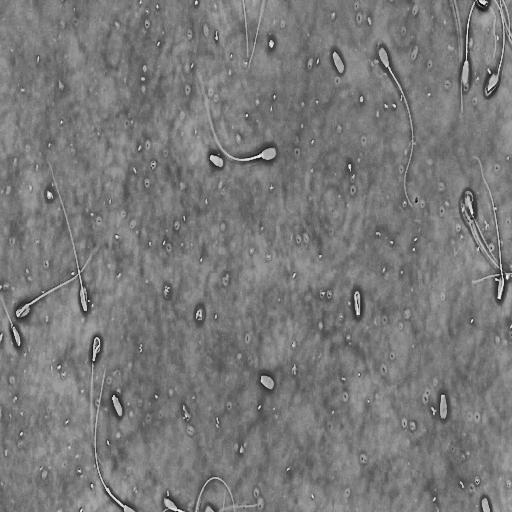coiled-tail: (90, 337, 100, 424), (352, 287, 363, 319), (355, 292, 360, 315)
dirt-particles: (194, 305, 204, 323), (268, 36, 276, 52)
folded-tail: (49, 165, 87, 311), (16, 248, 94, 317), (474, 157, 504, 299)
loose-head: (331, 50, 346, 75), (111, 393, 124, 420), (259, 373, 275, 393), (439, 390, 448, 421), (208, 152, 224, 169)
loose-tail: (246, 0, 267, 71), (241, 0, 249, 60)
normal: (193, 67, 280, 166), (43, 149, 90, 319), (14, 238, 104, 323), (377, 42, 417, 214), (469, 151, 506, 307), (464, 188, 510, 279), (88, 333, 103, 452)
proximal-droplet: (259, 153, 262, 158)
